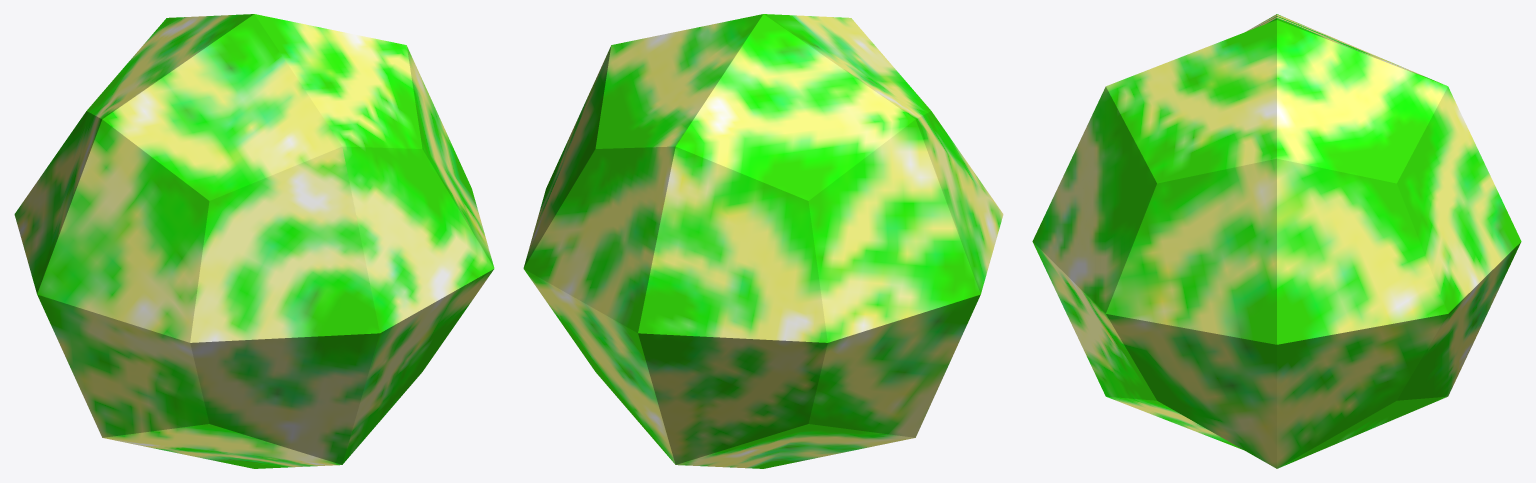
Rendered from chaosorb.obj.
3 views of the same model, side by side, from view 1: azimuth 30°, elevation 25°; view 2: azimuth 150°, elevation 25°; view 3: azimuth 270°, elevation 25° (orthographic). The views are drawn at different scales.
Visible parts, largest first — view 1: Ball; view 2: Ball; view 3: Ball.
Boxes of the visible parts, bbox=[...] form: Ball: bbox=[14, 14, 494, 468]; Ball: bbox=[523, 14, 1003, 468]; Ball: bbox=[1032, 14, 1521, 468].
Bounding box in the file's own units: 1 × 1 × 1.
